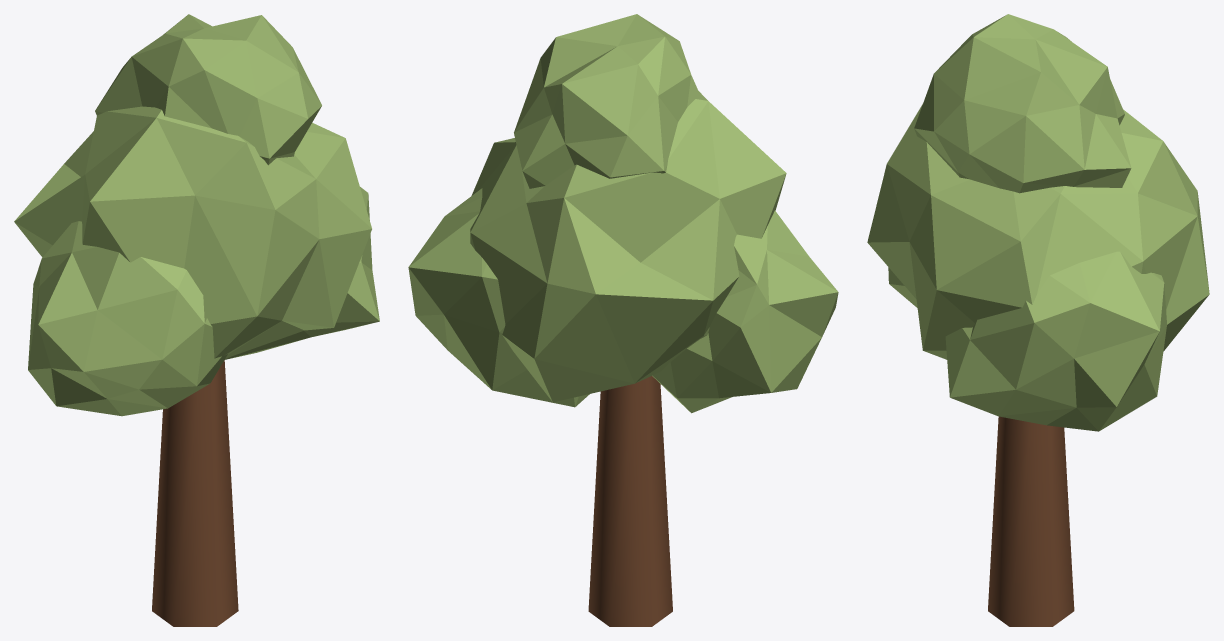
The model's file is tree.glb.
The picture shows the model from 3 angles, left to right: view 1: azimuth 30°, elevation 25°; view 2: azimuth 150°, elevation 25°; view 3: azimuth 270°, elevation 25°; orthographic projection. The views are drawn at different scales.
Visible parts, largest first — view 1: Tree; view 2: Tree; view 3: Tree.
Part boxes in pixels (x1,y1,x2,y2): Tree: (14, 14, 379, 626); Tree: (408, 14, 838, 626); Tree: (867, 14, 1209, 626).
Bounding box in the file's own units: 1.64 × 2.54 × 1.34.
